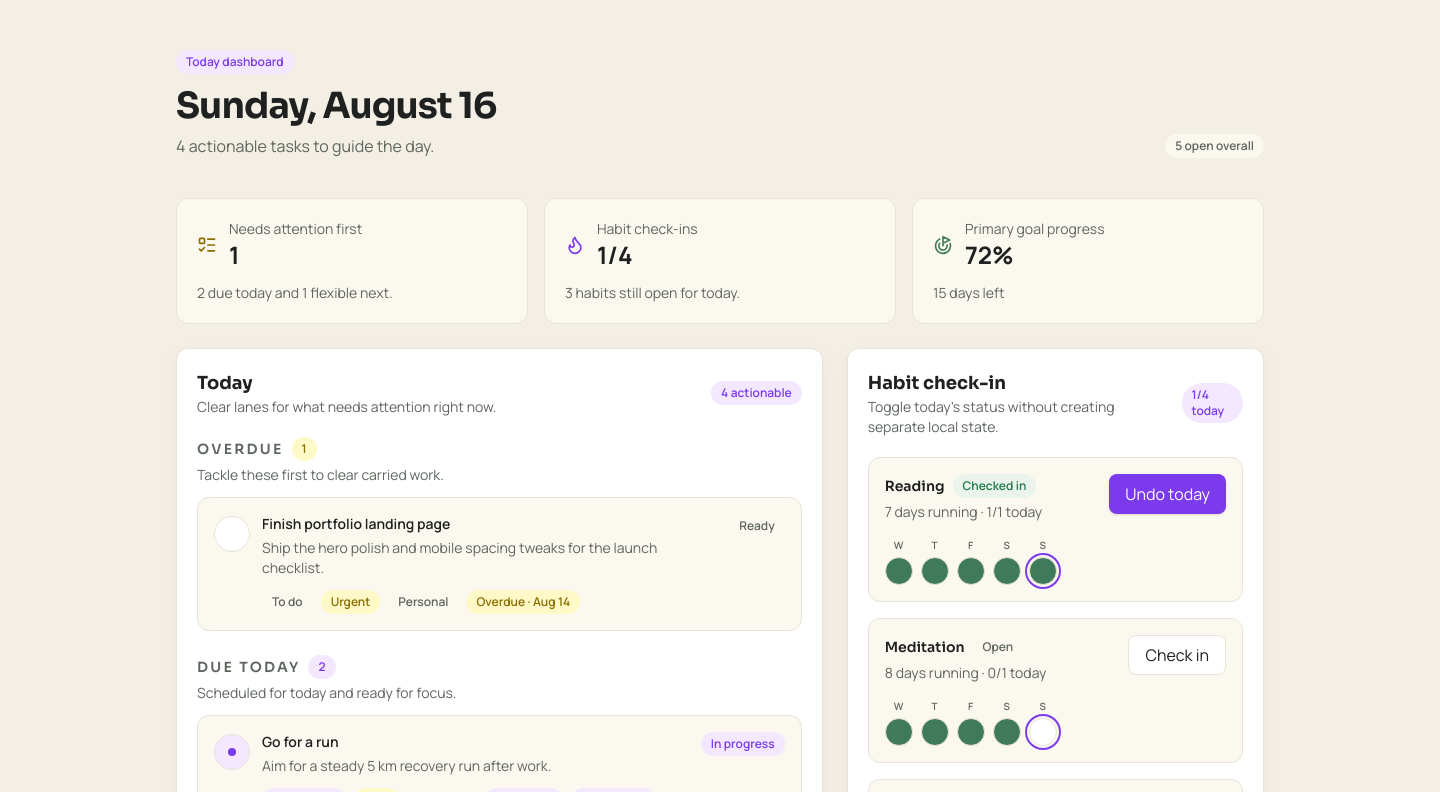
Test case: TodayPage — completing a task › drops the task off the day and lowers both counts
The width and height of the screenshot is (1440, 792).
Click the button named "Complete Finish portfolio landing page" at (232, 534), box [214,516,250,552]
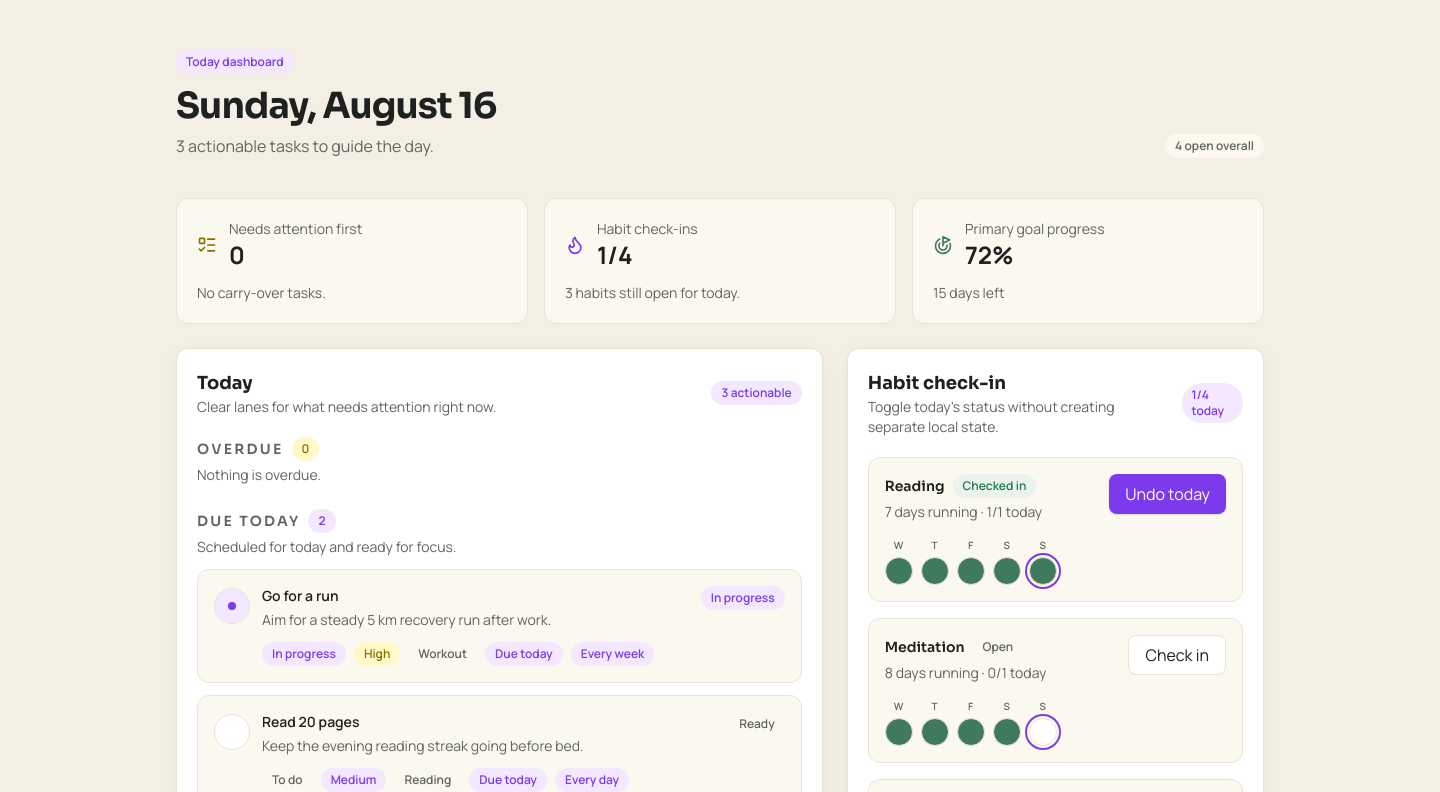
Now the text "3 actionable tasks to guide the day." is shown, box [176,135,434,157]
Now the text "4 open overall" is shown, box [1165,134,1264,158]
